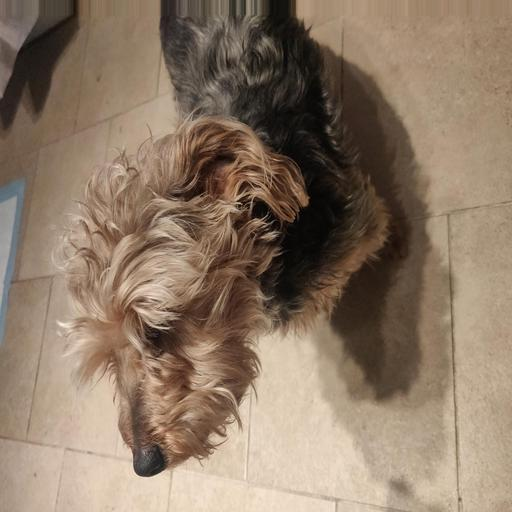dog: (40, 131, 369, 460)
